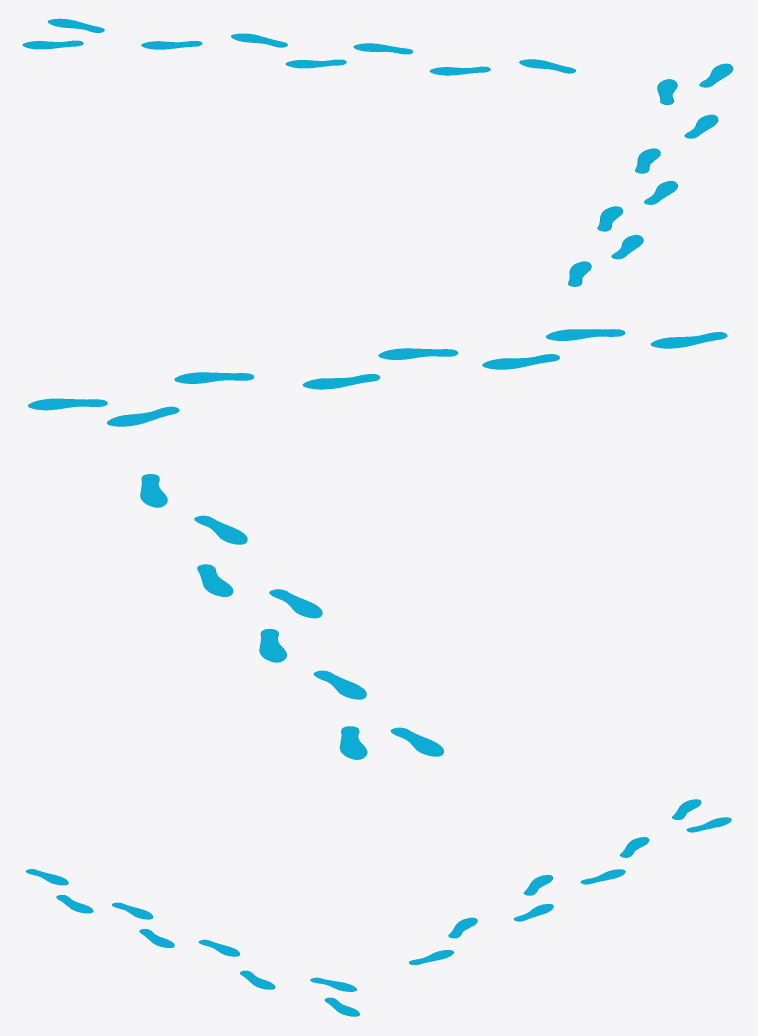
The model's file is Footprints.fbx.
3 views of the same model, one above another, from view 1: azimuth 30°, elevation 25°; view 2: azimuth 150°, elevation 25°; view 3: azimuth 270°, elevation 25° (orthographic). The views are drawn at different scales.
Visible parts, largest first — view 1: Plane; view 2: Plane; view 3: Plane.
Boxes of the visible parts, x1,y1,x2,y2 form: Plane: (22,18,733,286); Plane: (28,329,727,759); Plane: (26,799,731,1016).
Bounding box in the file's own units: 264 × 5.82e-05 × 357.
1 material, 1 textured.
